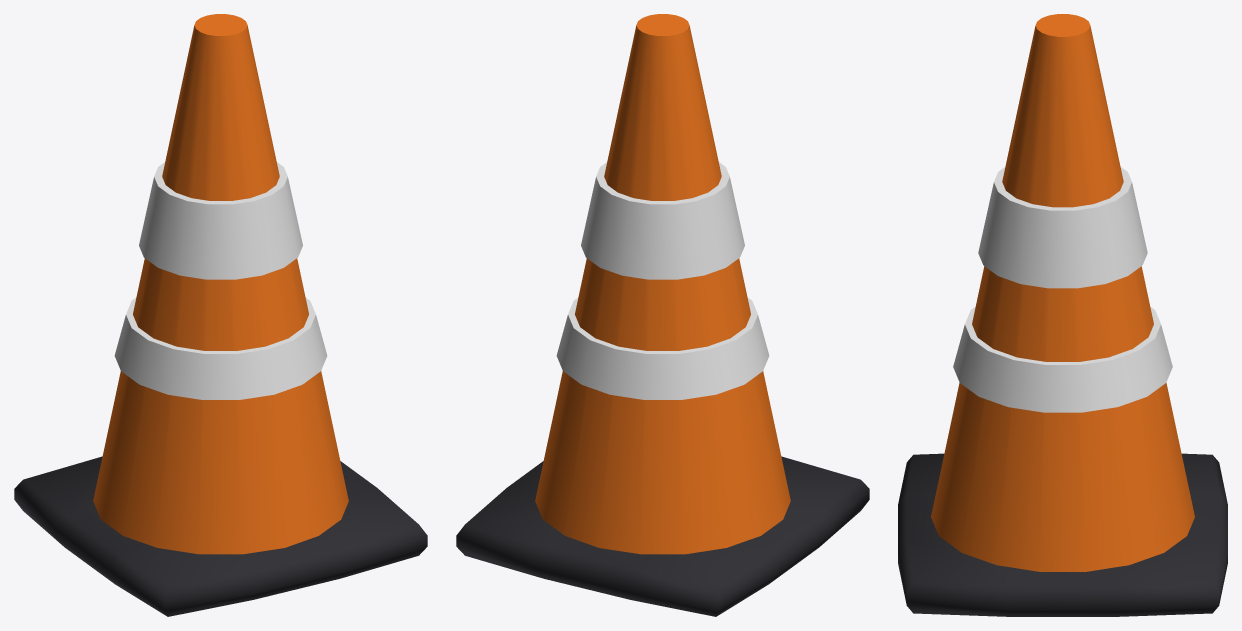
3 views of the same model, side by side, from view 1: azimuth 30°, elevation 25°; view 2: azimuth 150°, elevation 25°; view 3: azimuth 270°, elevation 25° (orthographic). The views are drawn at different scales.
Parts seen in each view (by area): view 1: conemesh; view 2: conemesh; view 3: conemesh.
Part boxes in pixels (bbox=[...]): conemesh: bbox=[14, 14, 427, 616]; conemesh: bbox=[456, 14, 869, 616]; conemesh: bbox=[898, 14, 1227, 616].
Bounding box in the file's own units: 0.42 × 0.74 × 0.42.
